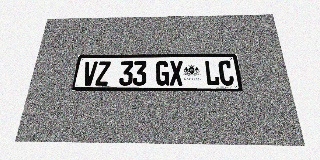3: (119, 61, 134, 86), (132, 61, 147, 86)
C: (218, 60, 235, 86)
G: (156, 61, 169, 86)
L: (204, 60, 220, 86)
V: (82, 61, 98, 86)
X: (169, 61, 183, 86)
Z: (95, 61, 111, 86)
